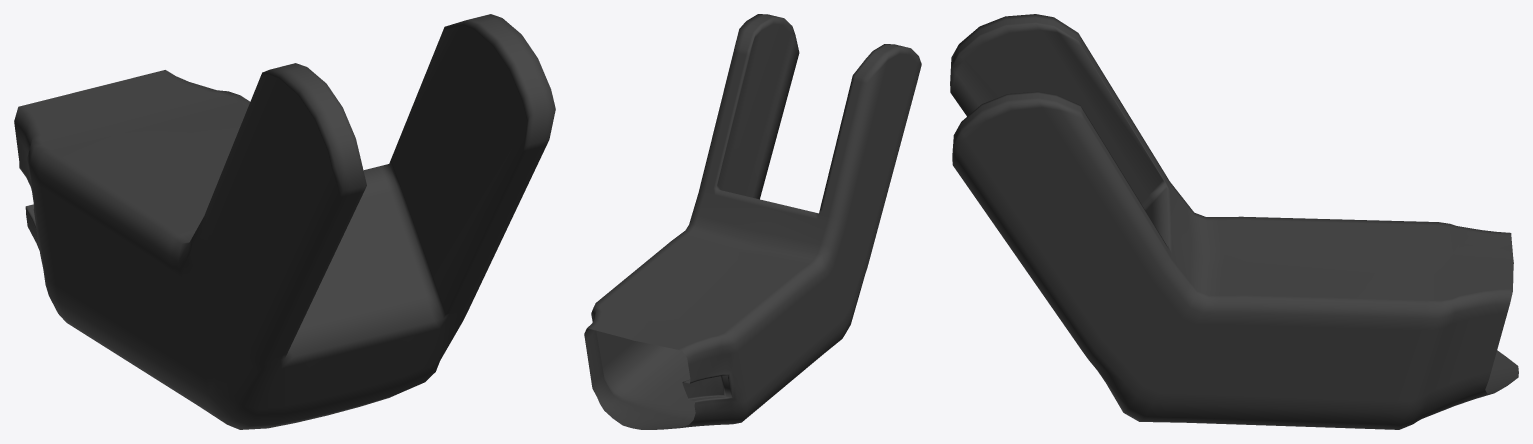
The picture shows the model from 3 angles, left to right: view 1: azimuth 30°, elevation 25°; view 2: azimuth 150°, elevation 25°; view 3: azimuth 270°, elevation 25°; orthographic projection. The views are drawn at different scales.
Parts seen in each view (by area): view 1: link3; view 2: link3; view 3: link3.
Part boxes in pixels (bbox=[...]): link3: bbox=[14, 14, 555, 429]; link3: bbox=[584, 14, 921, 429]; link3: bbox=[950, 14, 1518, 429].
Size of the model in its own units: 0.8671 by 2.3 by 1.54.
Materials: 1 (1 with a texture image).
